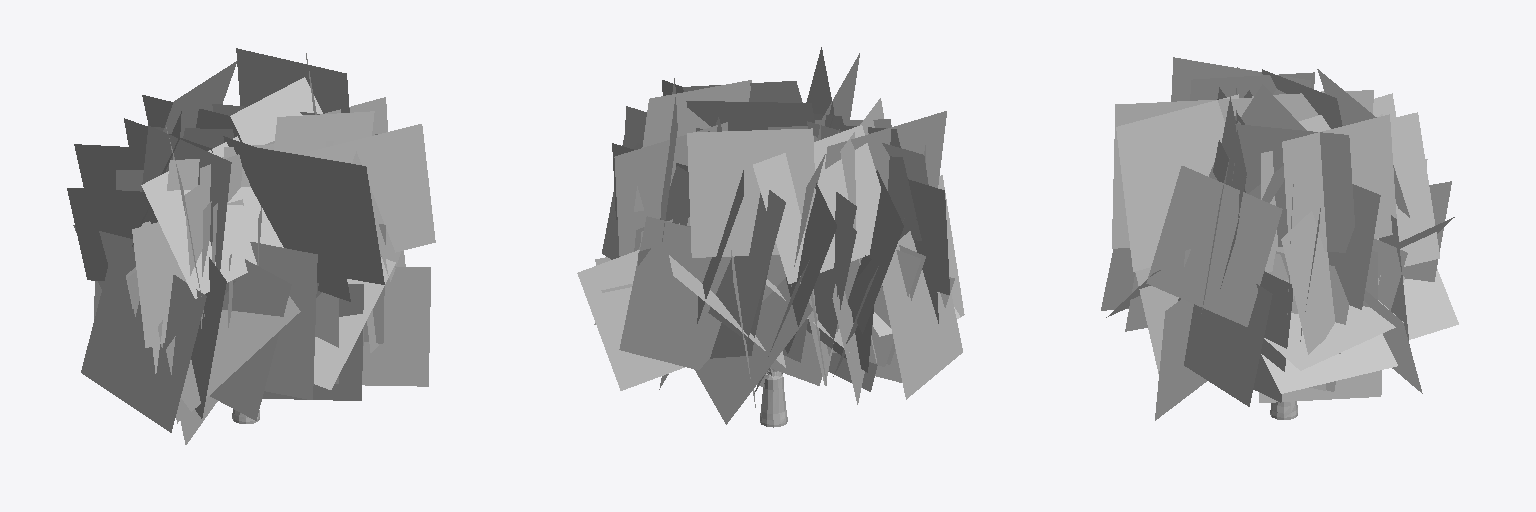
Rendered from tree.obj.
The picture shows the model from 3 angles: view 1: azimuth 30°, elevation 25°; view 2: azimuth 150°, elevation 25°; view 3: azimuth 270°, elevation 25°; orthographic projection.
Visible parts, largest first — view 1: Tree_1 Tree; view 2: Tree_1 Tree, Wood Tree_1; view 3: Tree_1 Tree.
Boxes of the visible parts, x1,y1,x2,y2 form: Tree_1 Tree: [67, 48, 435, 444]; Tree_1 Tree: [577, 47, 964, 424]; Wood Tree_1: [760, 368, 787, 427]; Tree_1 Tree: [1101, 57, 1458, 420].
Size of the model in its own units: 13.52 by 12.87 by 12.9.